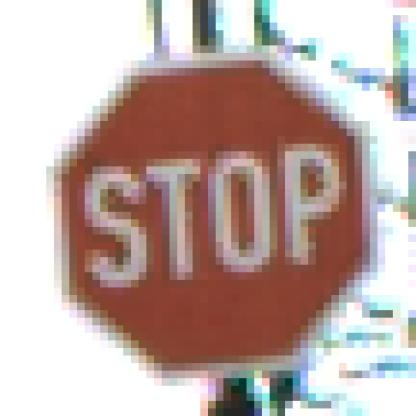stop: (36, 38, 385, 374)
